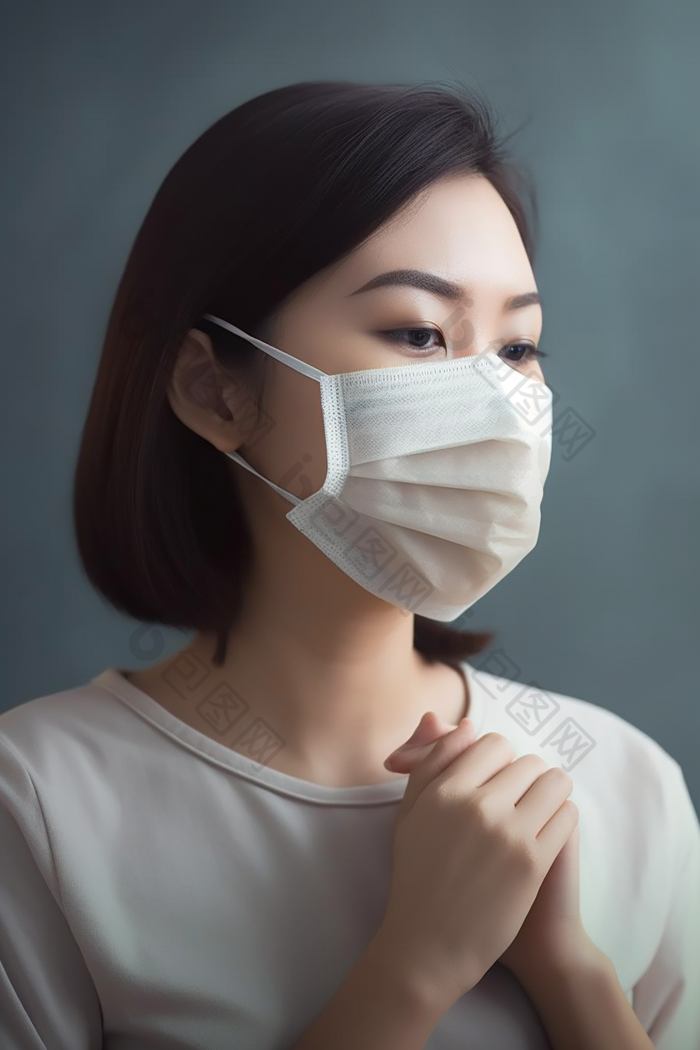with_mask: (156, 78, 559, 626)
